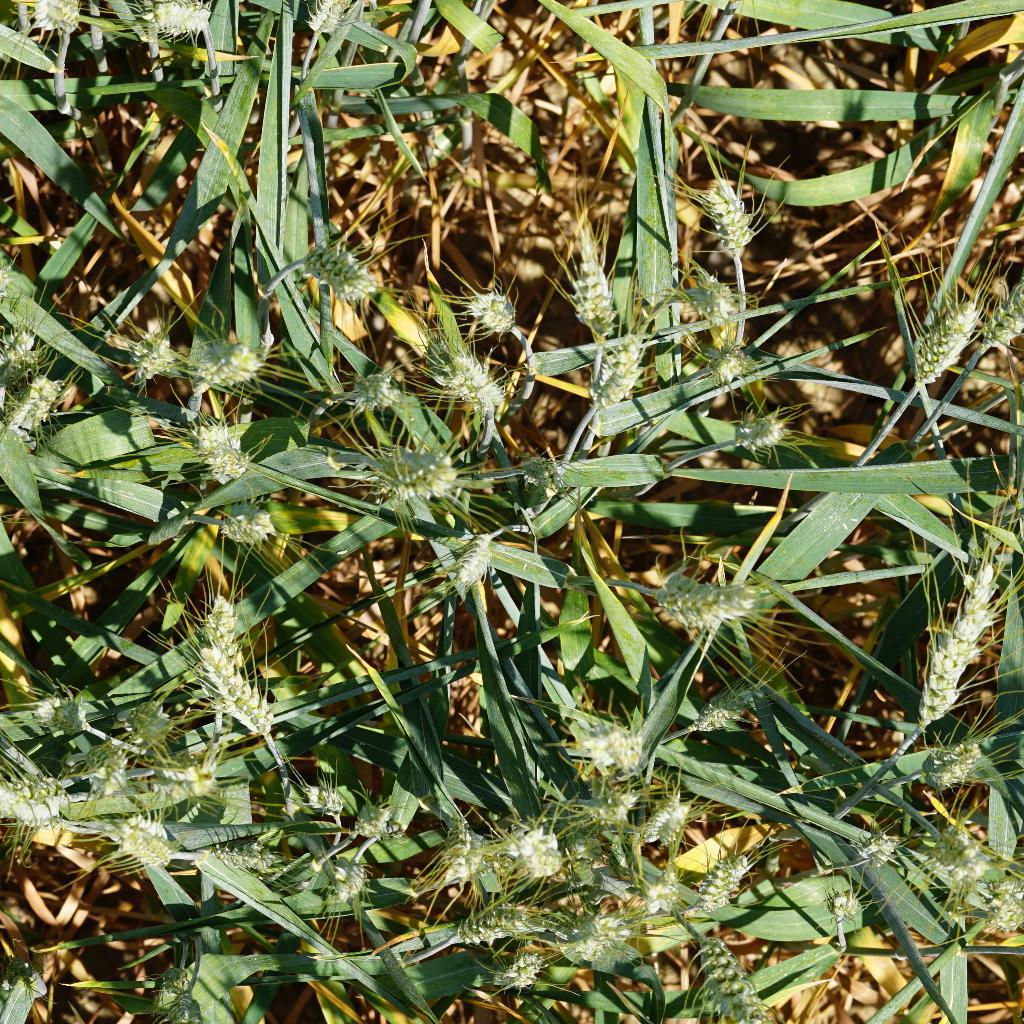0-0: (886, 557, 1009, 729), (884, 272, 976, 395), (647, 555, 776, 641), (187, 646, 284, 751), (691, 925, 793, 1024), (419, 328, 512, 422), (691, 160, 766, 264), (492, 802, 580, 890), (296, 238, 396, 309), (182, 411, 272, 486), (560, 232, 623, 333), (0, 755, 82, 830), (103, 798, 182, 875), (440, 894, 545, 950), (370, 443, 464, 505), (0, 370, 85, 438), (919, 811, 996, 884), (194, 322, 264, 399), (440, 518, 505, 598), (672, 258, 739, 335), (627, 777, 698, 849), (579, 335, 646, 411), (32, 679, 107, 746), (564, 907, 635, 974), (688, 855, 758, 919), (688, 683, 763, 742), (120, 317, 182, 387), (344, 358, 410, 421), (430, 815, 484, 890), (217, 500, 287, 557), (915, 739, 990, 792), (490, 938, 553, 1000), (78, 733, 144, 791), (983, 279, 1023, 374), (291, 778, 363, 829), (570, 779, 642, 830), (146, 0, 224, 47), (575, 717, 645, 769), (21, 0, 94, 49), (515, 440, 578, 496), (190, 595, 246, 656), (317, 840, 369, 905), (731, 411, 799, 460), (206, 837, 281, 881), (153, 758, 224, 804), (699, 338, 760, 391), (854, 817, 904, 881), (468, 279, 523, 337), (0, 325, 51, 385), (629, 866, 684, 921), (123, 695, 178, 750), (817, 879, 871, 927), (344, 799, 398, 843), (301, 0, 367, 34), (990, 871, 1024, 933), (158, 959, 194, 997), (5, 958, 41, 995), (164, 993, 205, 1024)
